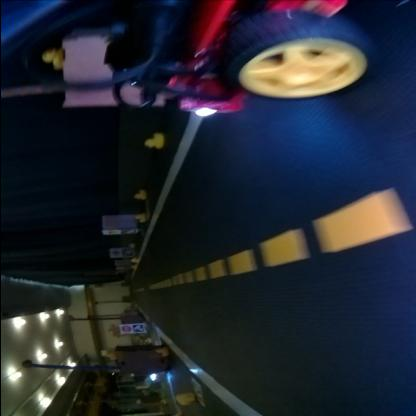Duckie: (40, 51, 62, 69), (142, 134, 162, 150), (176, 392, 192, 404), (133, 192, 145, 200), (154, 349, 166, 357), (134, 214, 144, 222), (104, 352, 113, 360), (129, 264, 137, 270), (129, 259, 137, 264), (128, 244, 132, 248)
Duckiebot: (99, 2, 373, 114)
QR code: (130, 325, 142, 333), (119, 230, 135, 235)
Stop sign: (118, 325, 130, 334)
